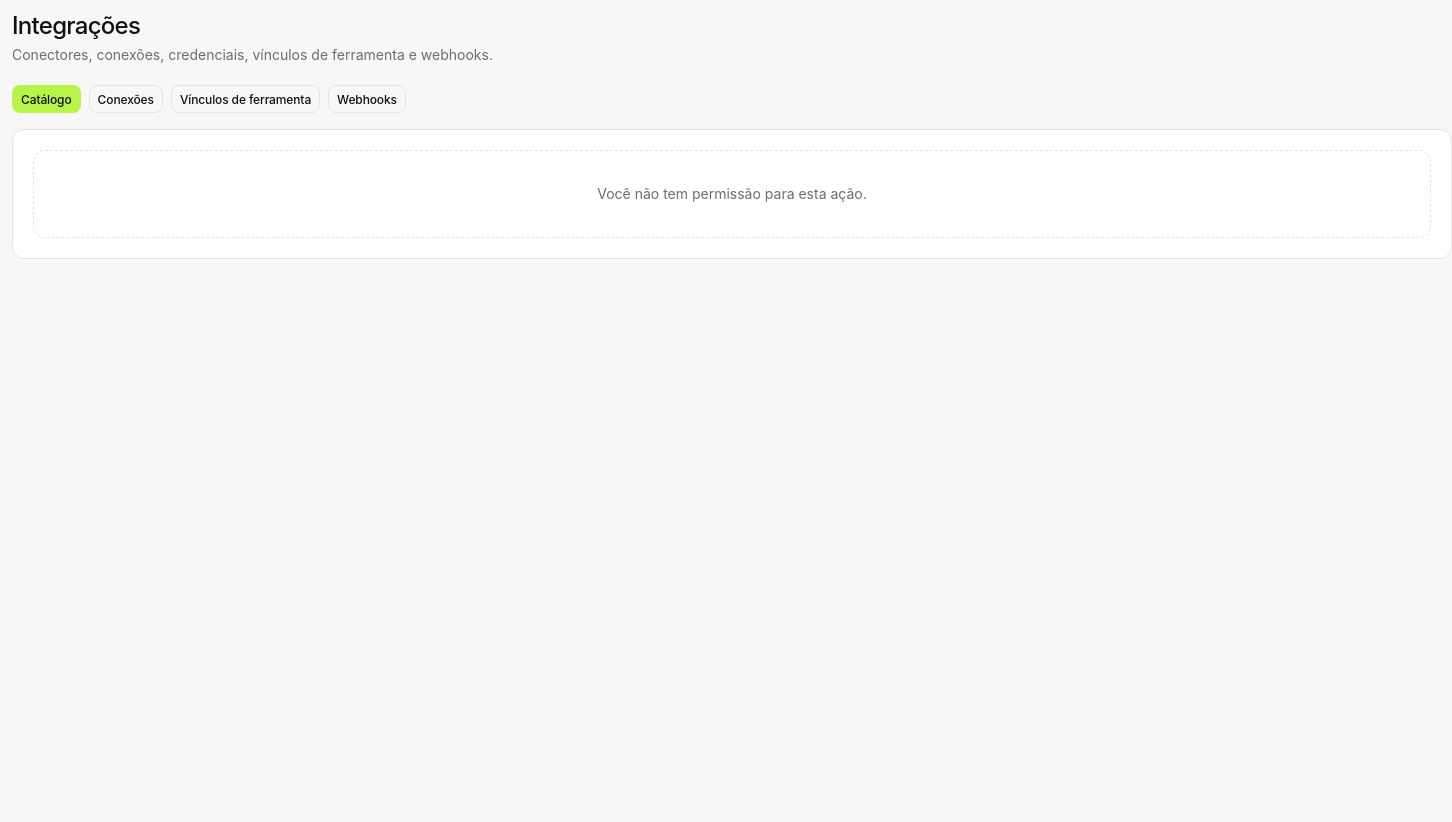
Test case: IntegrationsPage — conexões › canário de segredo de credencial não é persistido em lugar nenhum
Click the tab "Conexões" at (126, 99), box [89, 85, 163, 113]
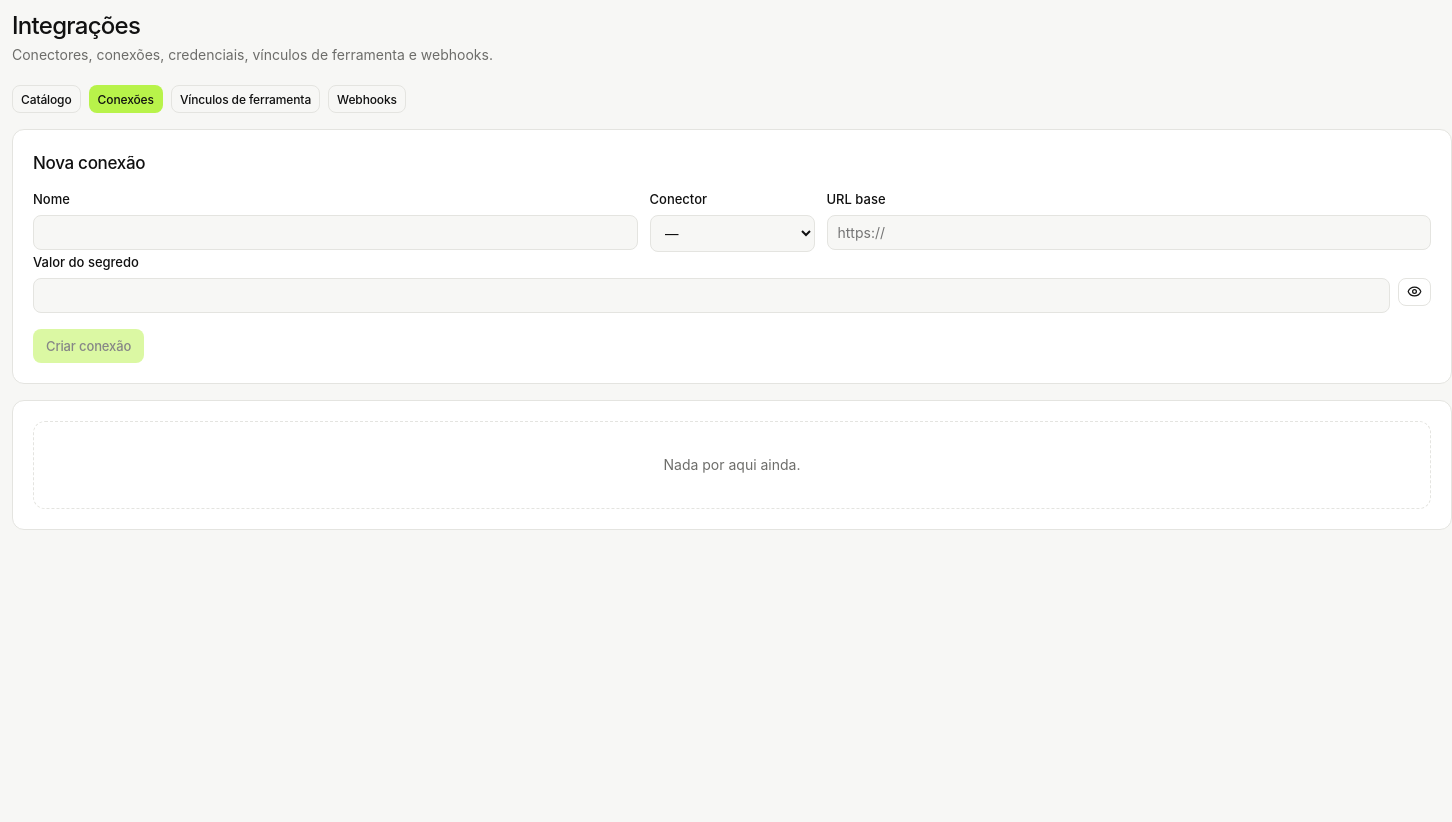
Expected: the text "Nada por aqui ainda." is shown, [33, 421, 1431, 509]
Type "Secret conn" into the field labelled "Nome" at (335, 232), box [33, 215, 638, 250]
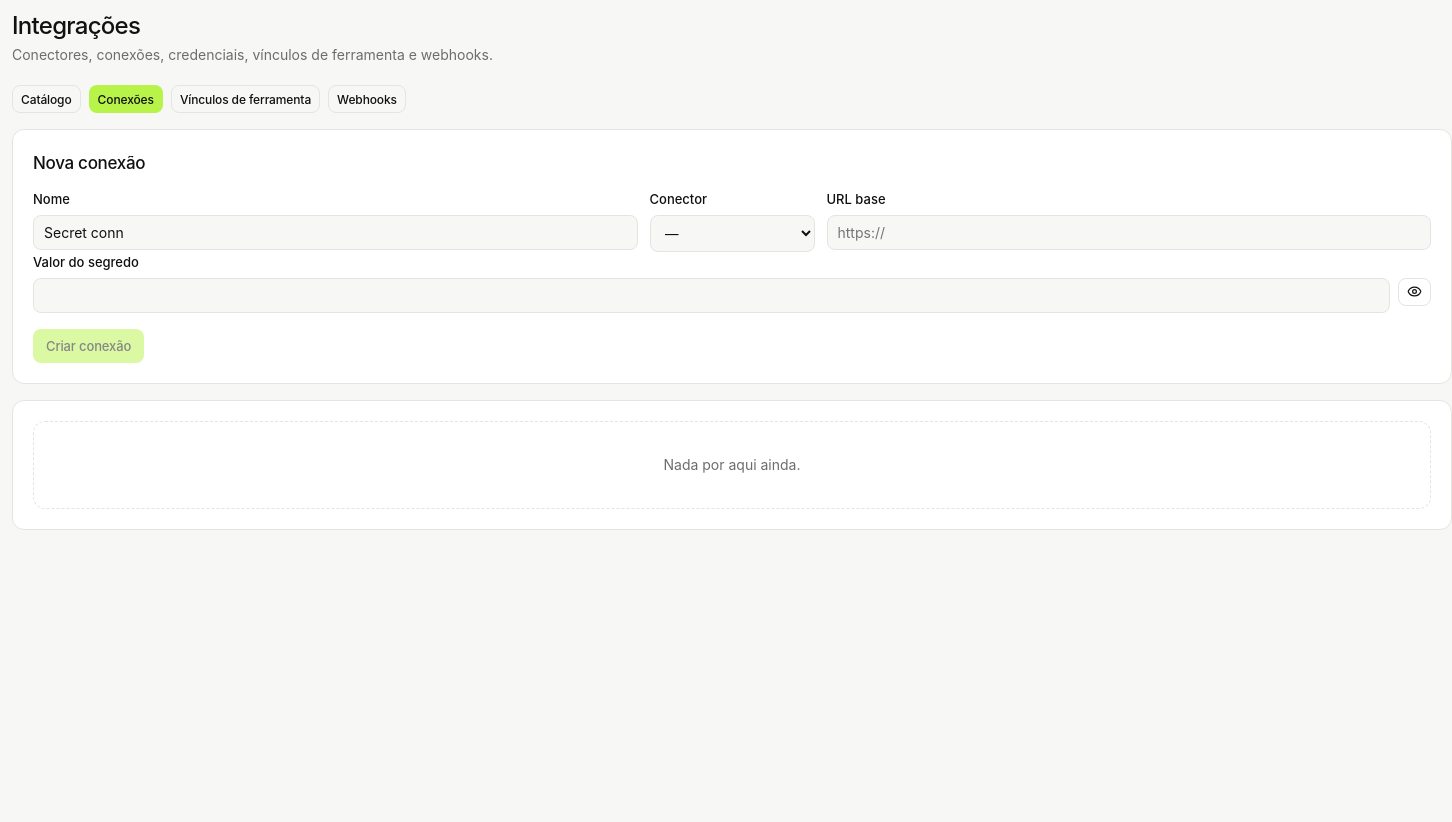
Select "HTTP REST" in the dropdown labelled "Conector" at (732, 233), box [650, 215, 814, 252]
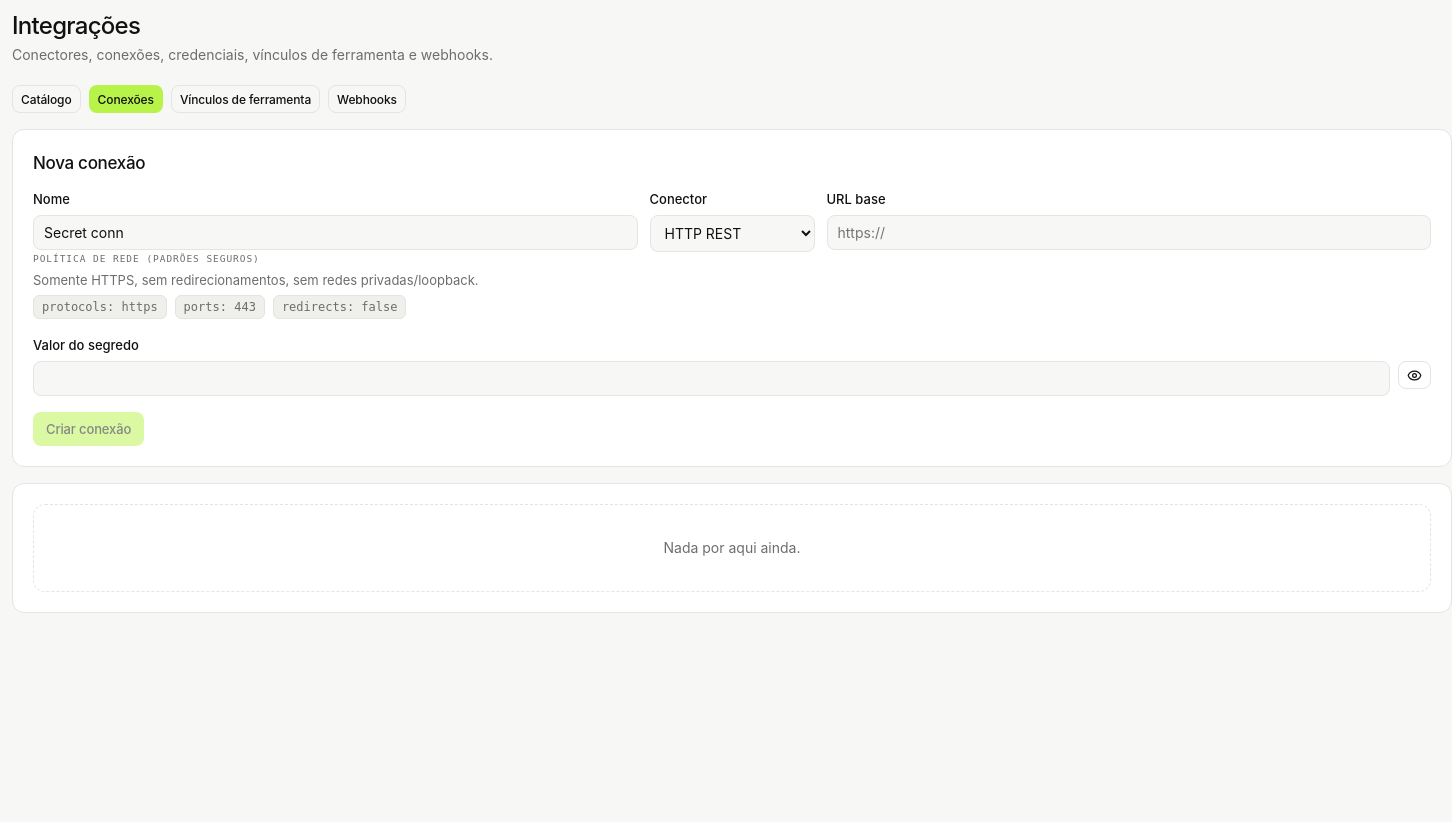
Type "https://api.example.com" into the field with placeholder "https://" at (1129, 232), box [826, 215, 1431, 250]
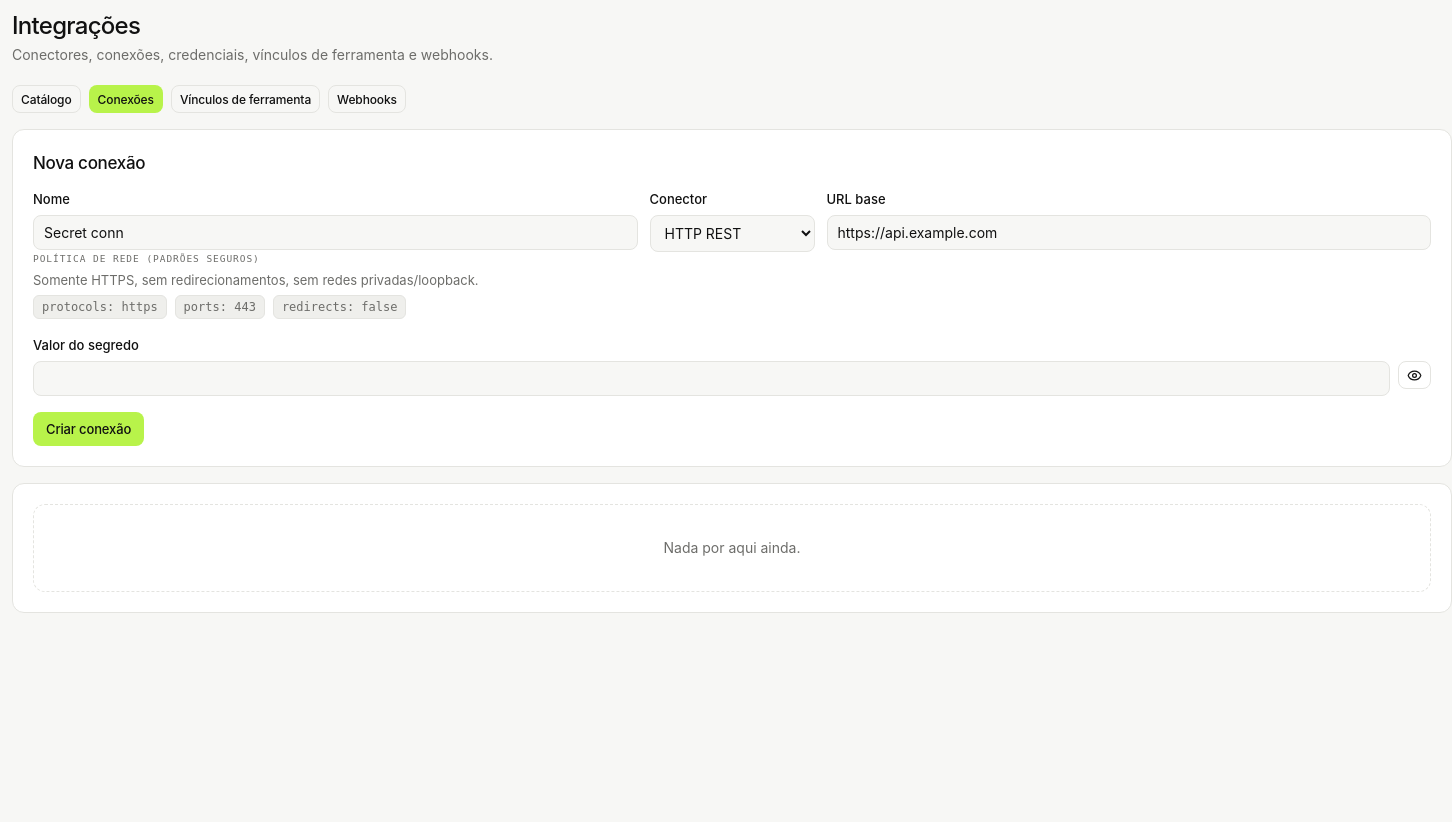
Type "ARDEN_BE006_FRONTEND_SECRET_CANARY_1" into the password field labelled "Valor do segredo" at (712, 379), box [33, 361, 1390, 396]
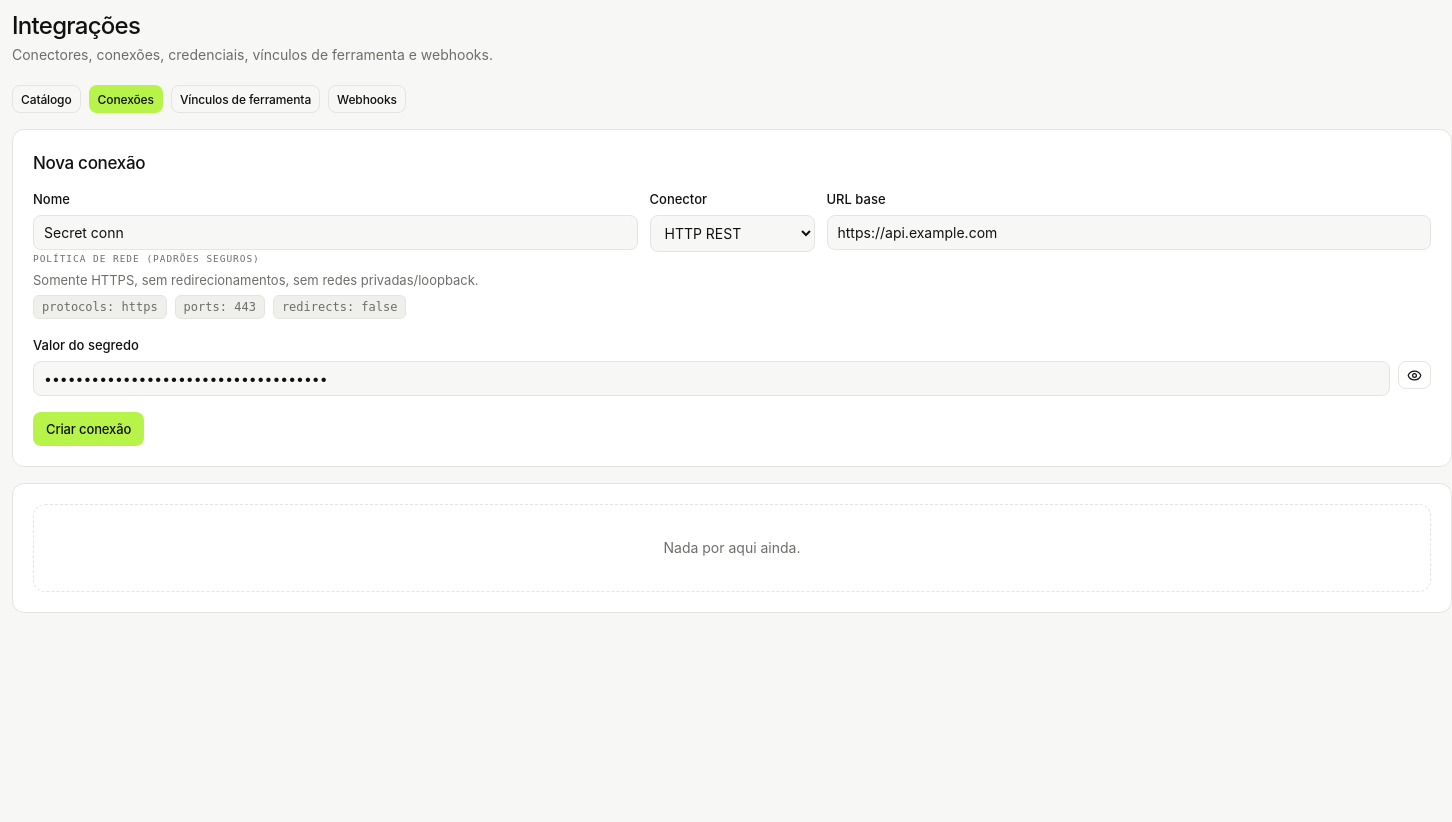
Click the button "Criar conexão" at (89, 429), box [33, 412, 144, 446]
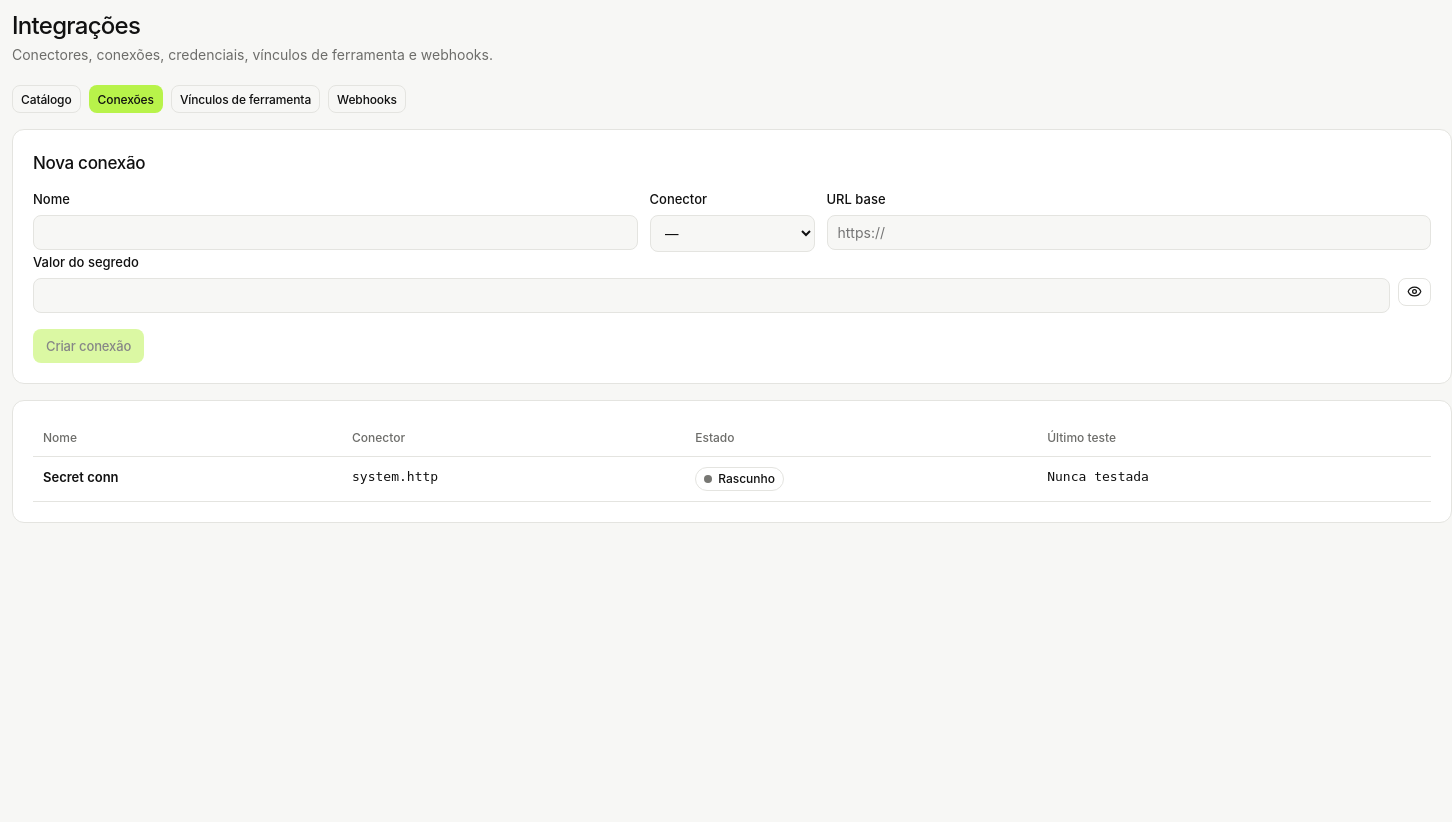
Expected: the button "Secret conn" is shown, [43, 466, 118, 487]
